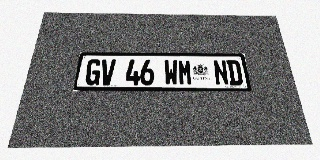4: (125, 59, 140, 85)
6: (140, 59, 154, 85)
D: (226, 60, 243, 85)
G: (84, 59, 102, 85)
M: (178, 60, 193, 85)
N: (213, 60, 229, 85)
V: (99, 59, 116, 85)
W: (164, 60, 178, 85)
